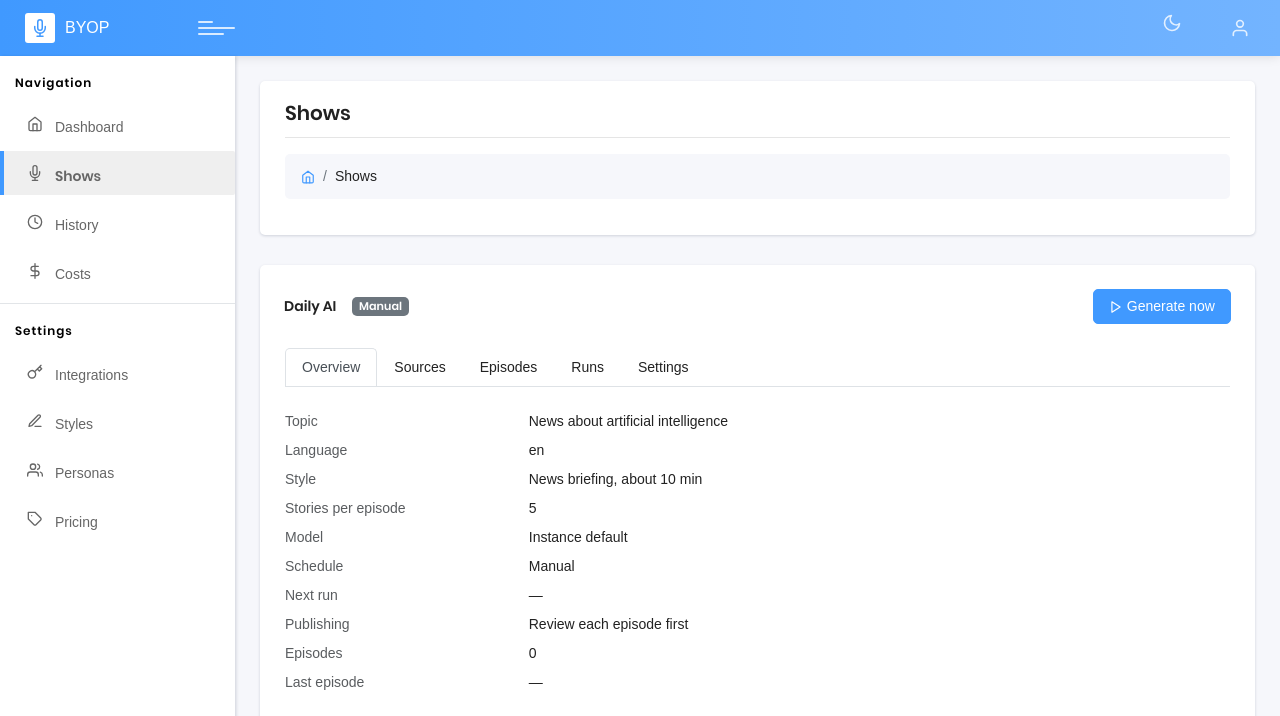
it: show detail page › has the five tabs, with a placeholder for what comes later
Check: the heading "Daily AI" is shown, box [284,299,336,314]
Click the link "Sources" at (420, 367), box [394,359,446,375]
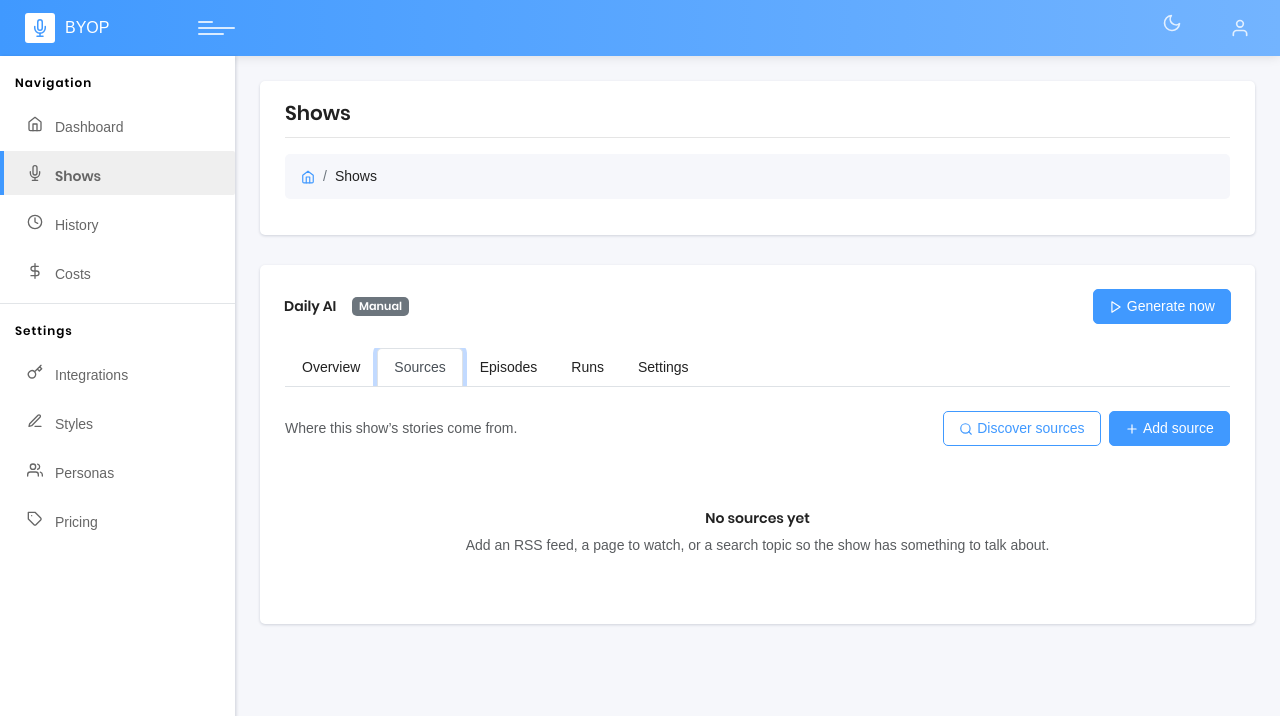
Check: the button "Add source" is shown, box [1109,411,1230,446]
Click the link "Episodes" at (508, 367), box [480,359,537,375]
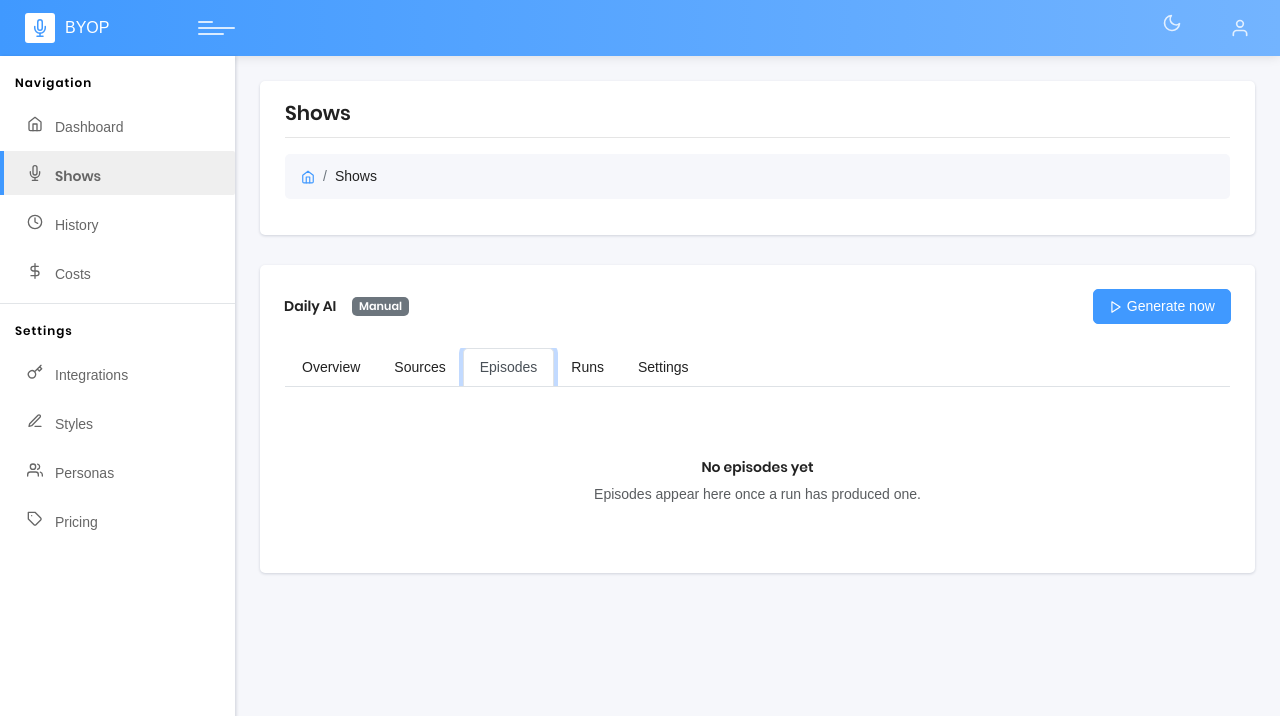
Check: the heading "No episodes yet" is shown, box [701,457,814,477]
